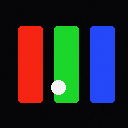2 circle: (51, 80, 65, 94)
